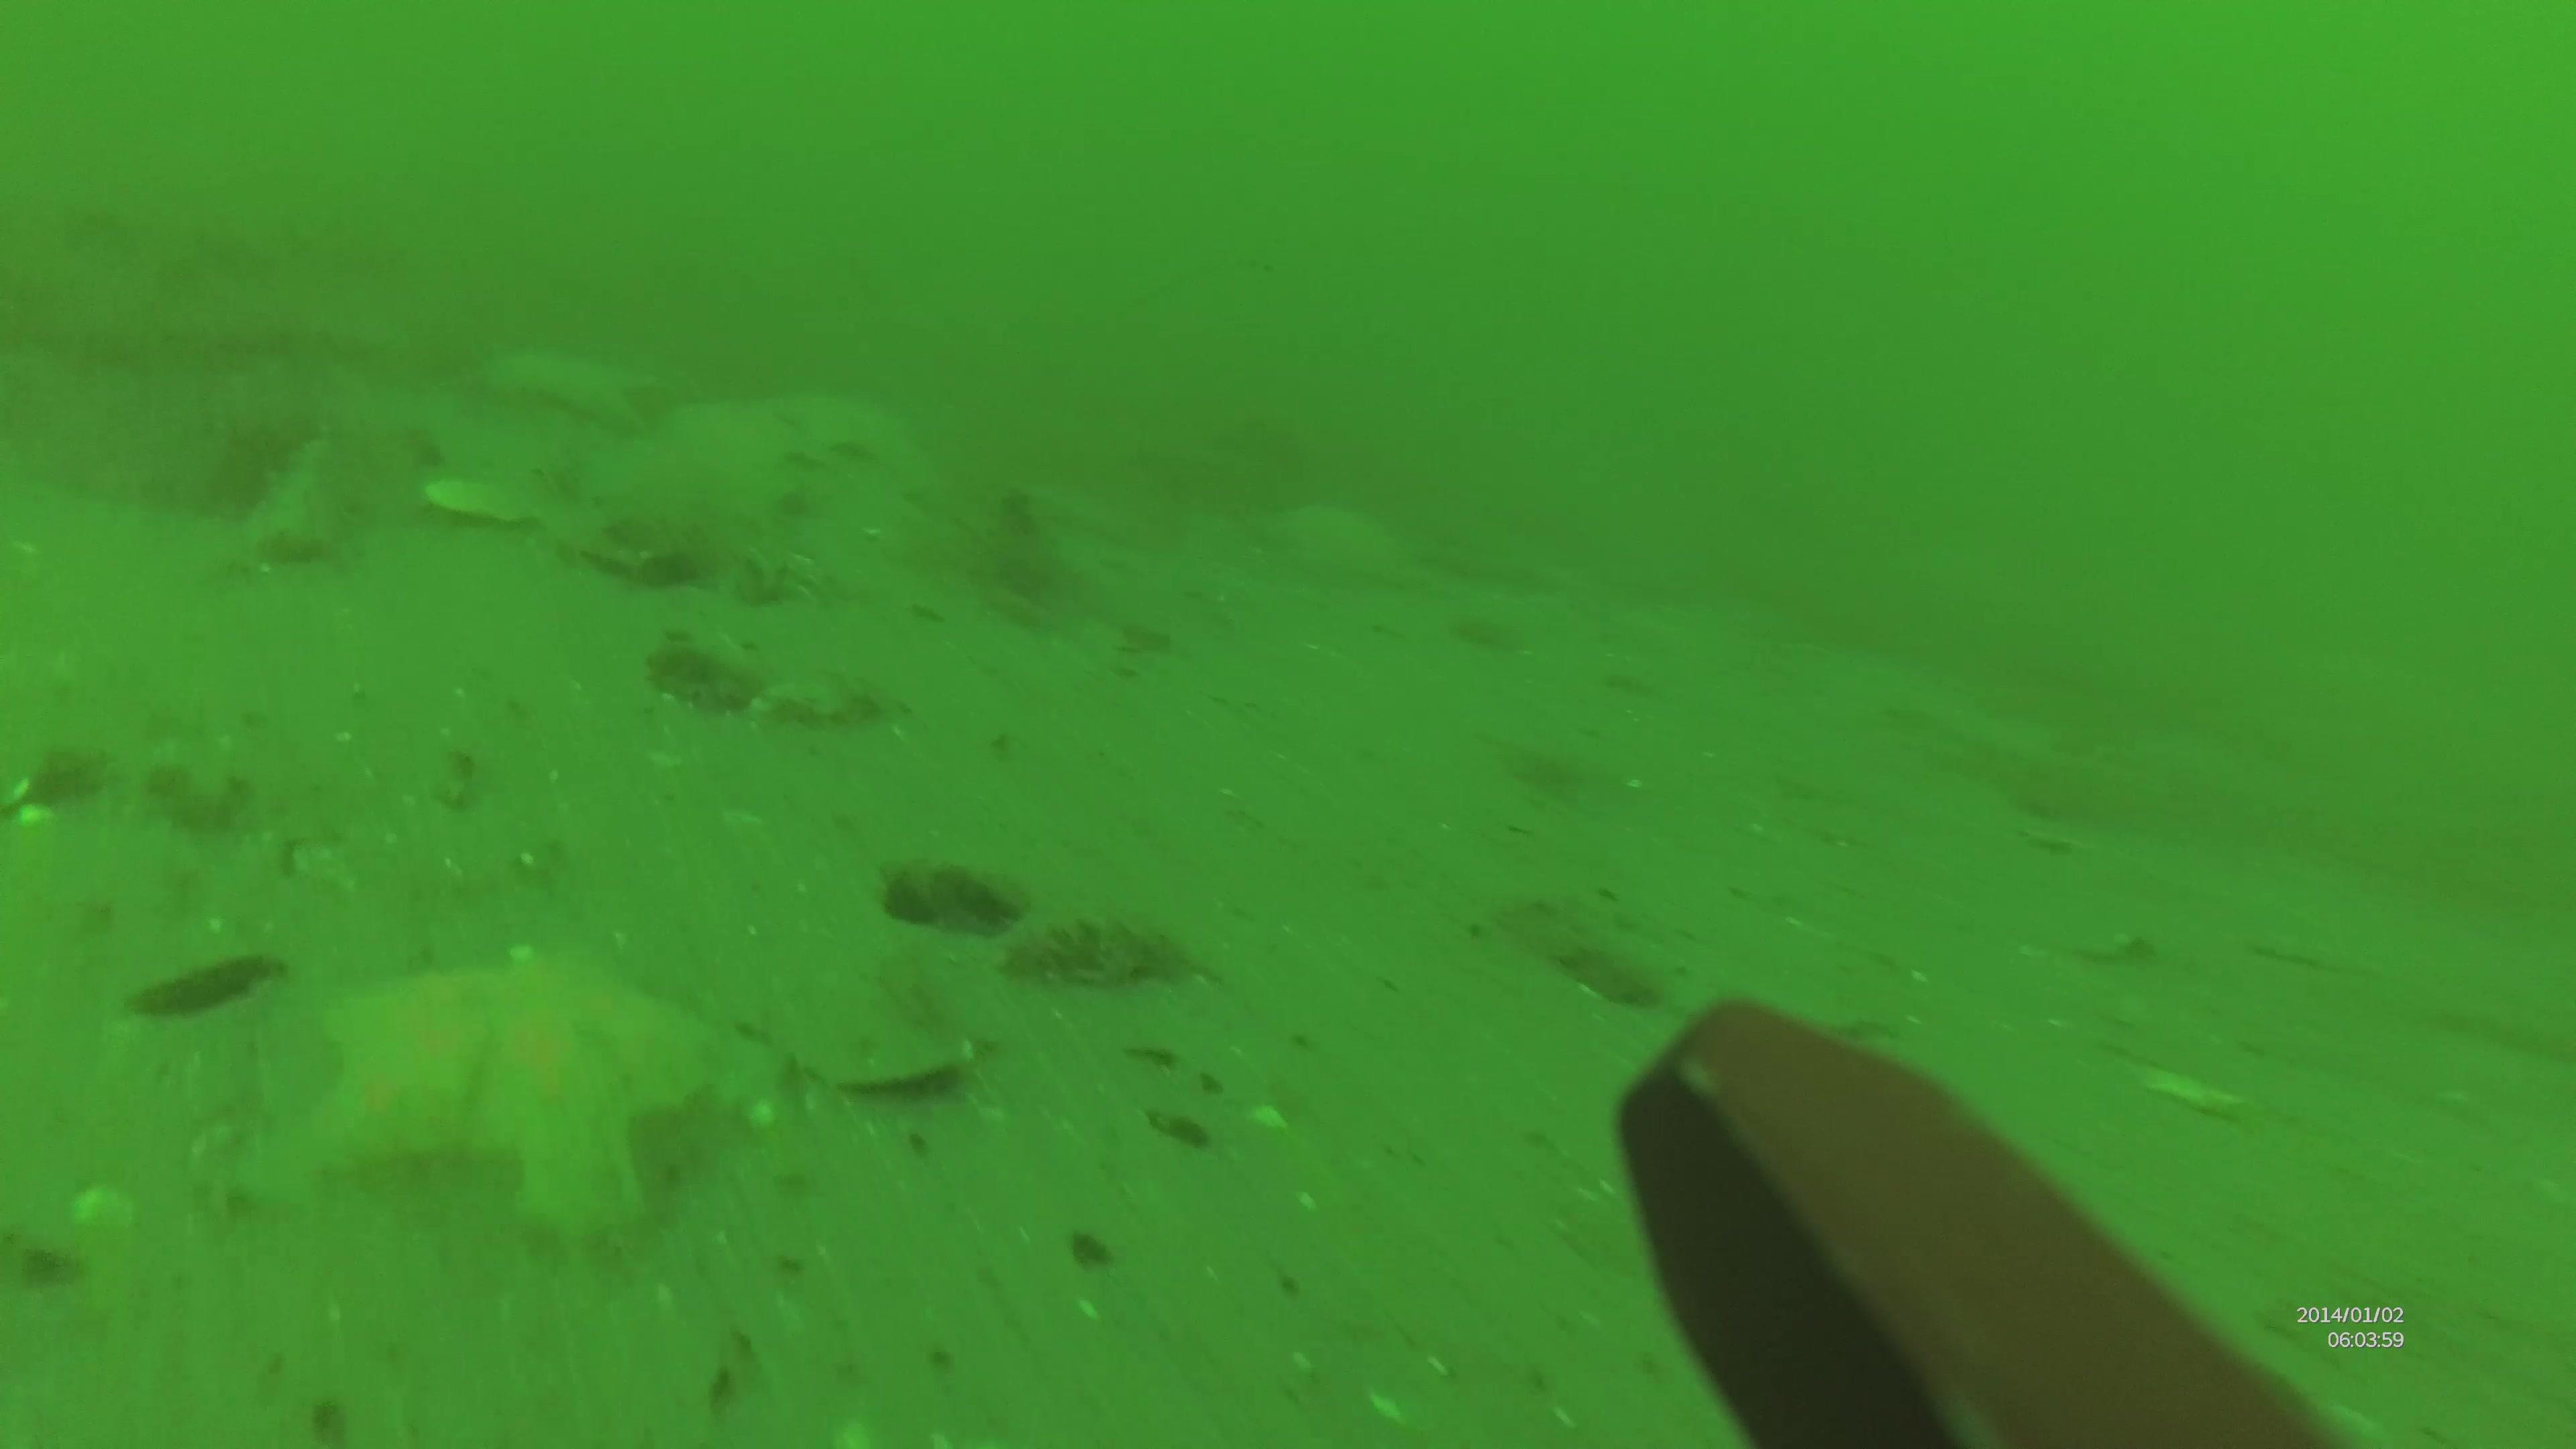starfish: (281, 941, 796, 1249), (467, 340, 651, 449)
